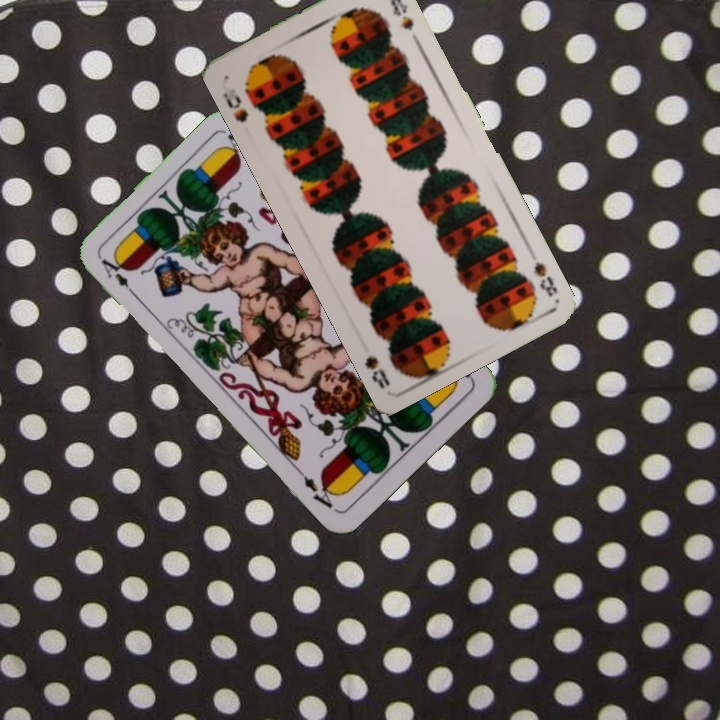EA: (97, 254, 141, 301)
S8: (219, 78, 252, 125), (529, 257, 561, 300)
